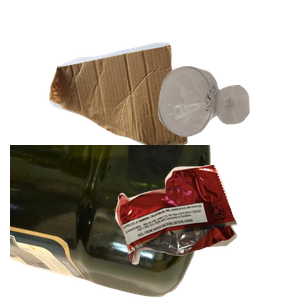cardboard: (46, 40, 226, 179)
glass: (156, 64, 300, 194)
plastic: (10, 145, 213, 300)
trash: (113, 162, 300, 300)
